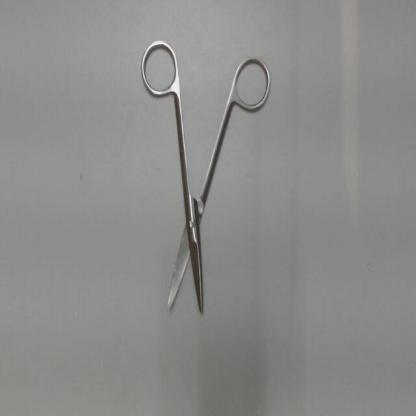Curved Mayo Scissors: (136, 35, 278, 320)
